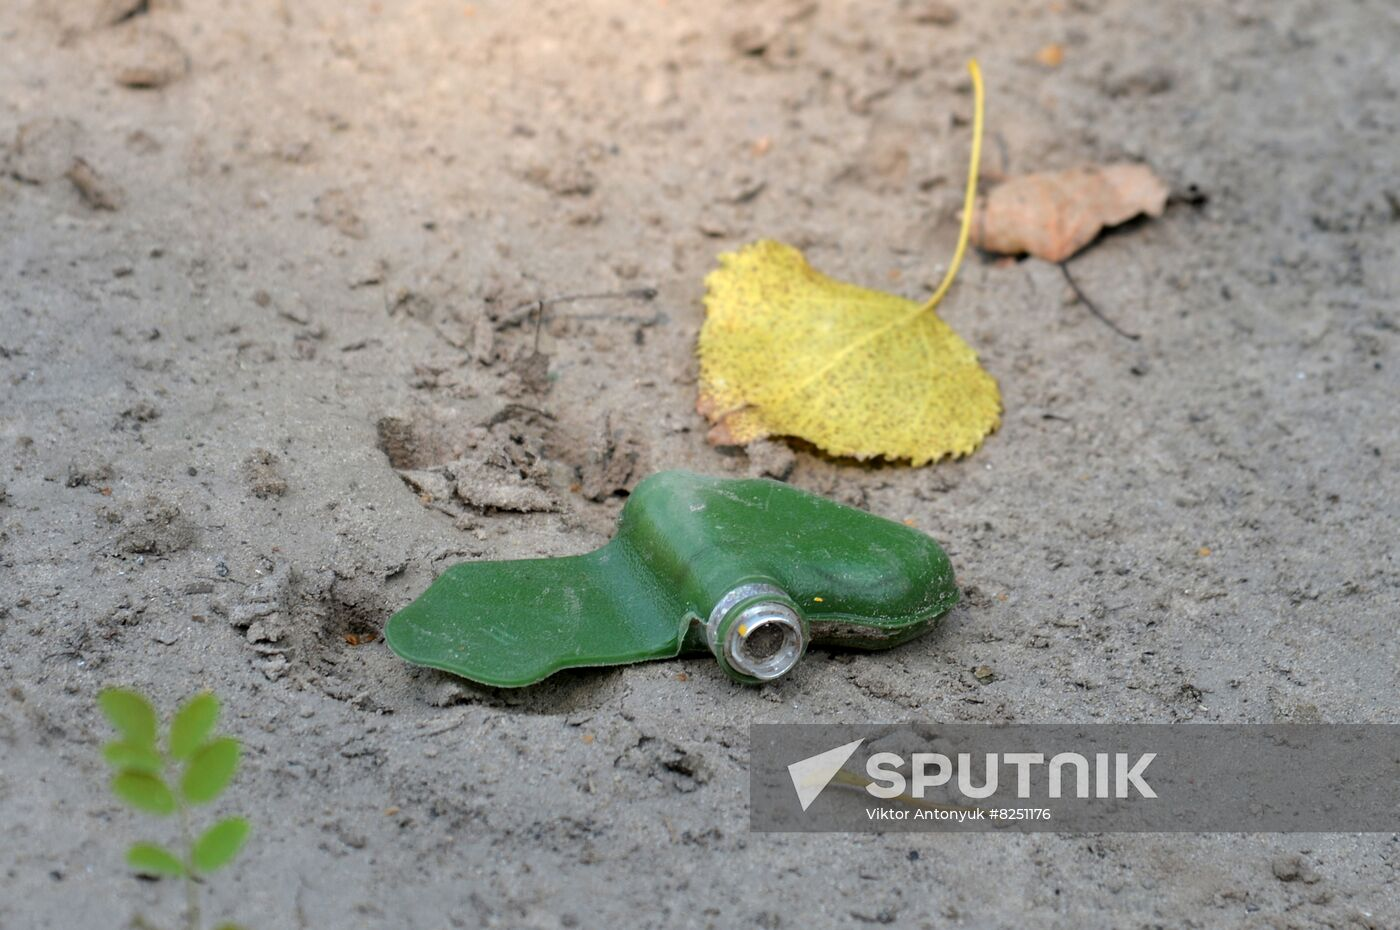butterfly: (368, 461, 968, 707)
